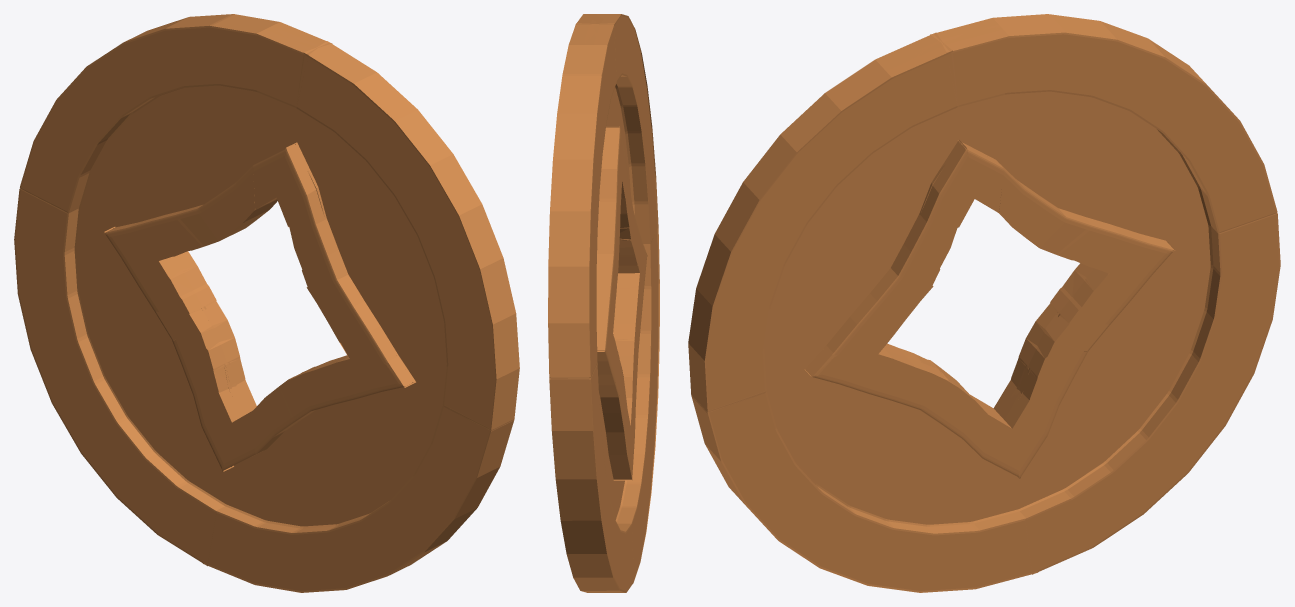
3 renders of one model, left to right at view 1: azimuth 30°, elevation 25°; view 2: azimuth 150°, elevation 25°; view 3: azimuth 270°, elevation 25°, orthographic. The views are drawn at different scales.
Visible parts, largest first — view 1: 柱体.001; view 2: 柱体.001; view 3: 柱体.001.
Part boxes in pixels (x1=…): 柱体.001: x1=14, y1=14, x2=519, y2=592; 柱体.001: x1=548, y1=14, x2=659, y2=592; 柱体.001: x1=688, y1=14, x2=1280, y2=592.
Bounding box in the file's own units: 0.8862 × 1.89 × 1.8.
